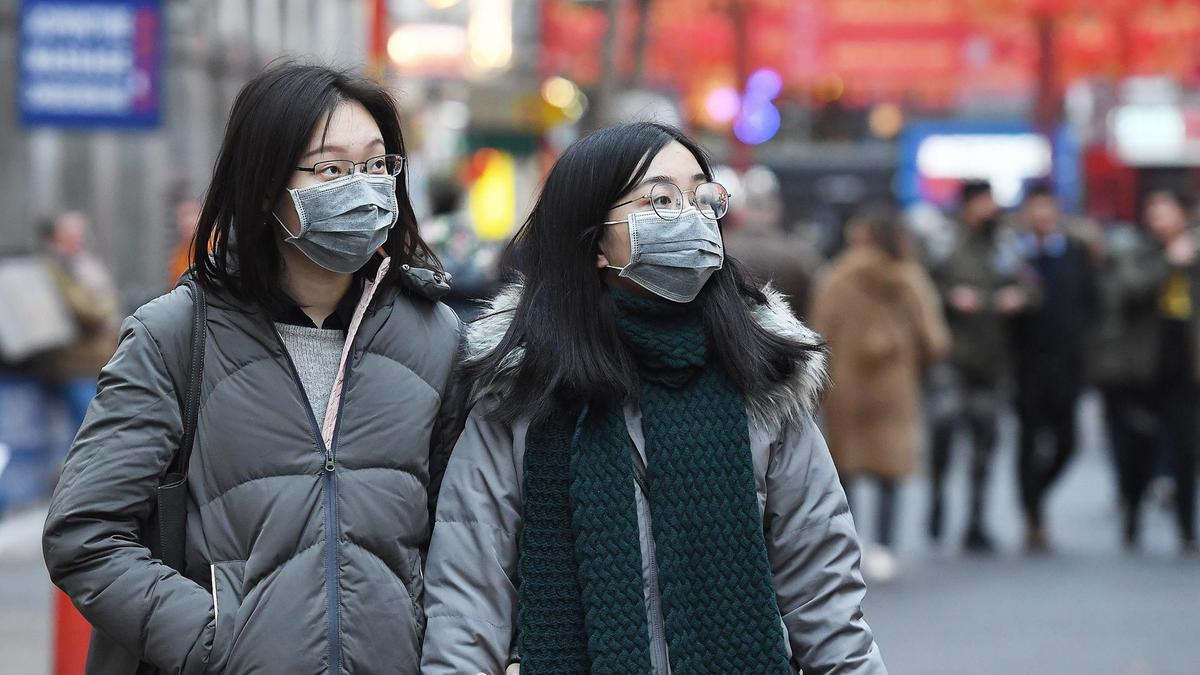surgical: (278, 176, 414, 279), (607, 209, 742, 305)
